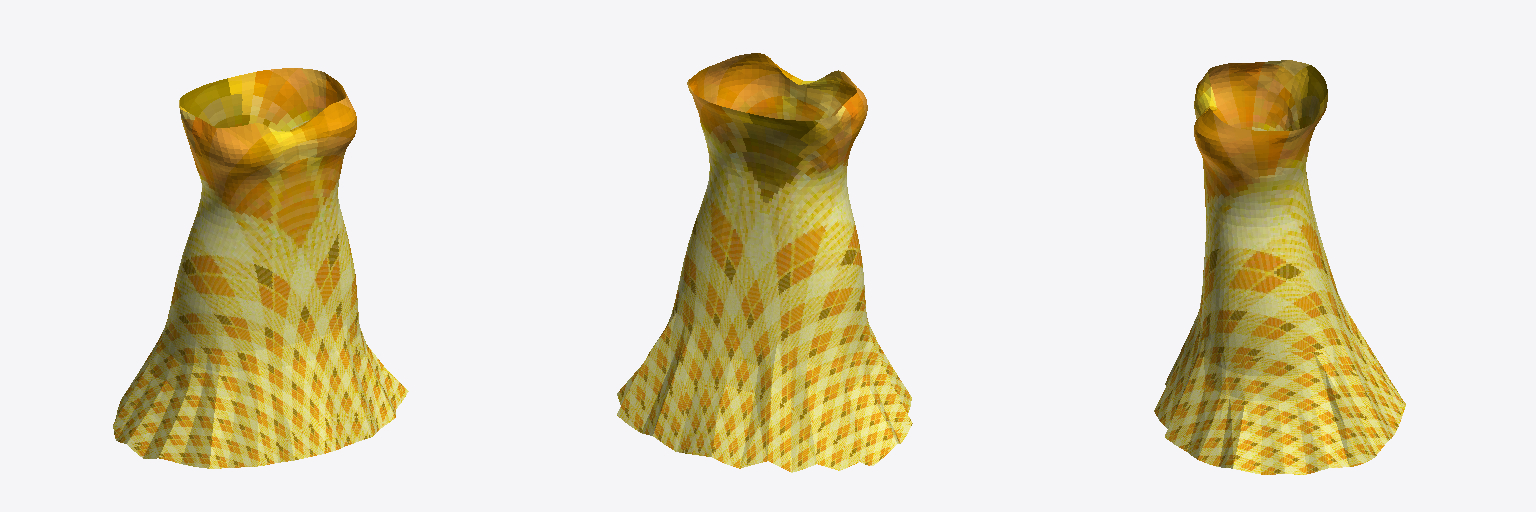
3 views of the same model, side by side, from view 1: azimuth 30°, elevation 25°; view 2: azimuth 150°, elevation 25°; view 3: azimuth 270°, elevation 25° (orthographic).
Parts seen in each view (by area): view 1: Dress_Form.002; view 2: Dress_Form.002; view 3: Dress_Form.002.
Boxes of the visible parts, box(x1,y1,x2,y2) form: Dress_Form.002: box(113, 68, 408, 468); Dress_Form.002: box(617, 53, 912, 472); Dress_Form.002: box(1154, 60, 1405, 474).
Bounding box in the file's own units: 0.451 × 0.5579 × 0.3802.
1 materials, 1 textured.